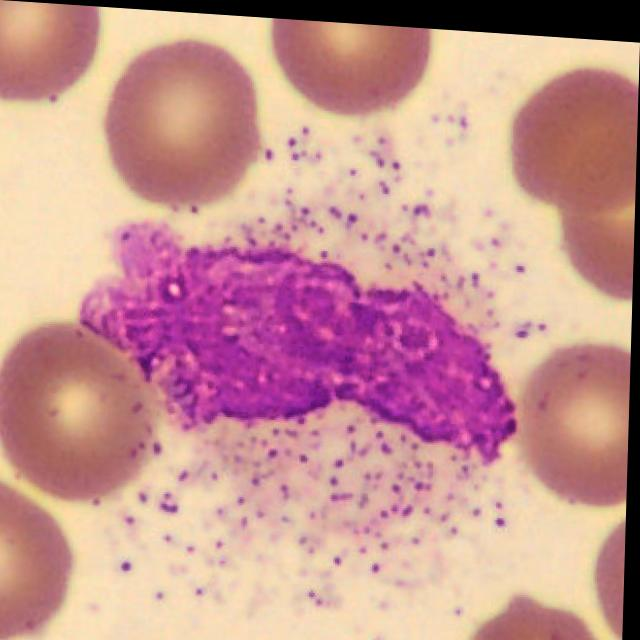Artefato: (82, 219, 520, 453)
